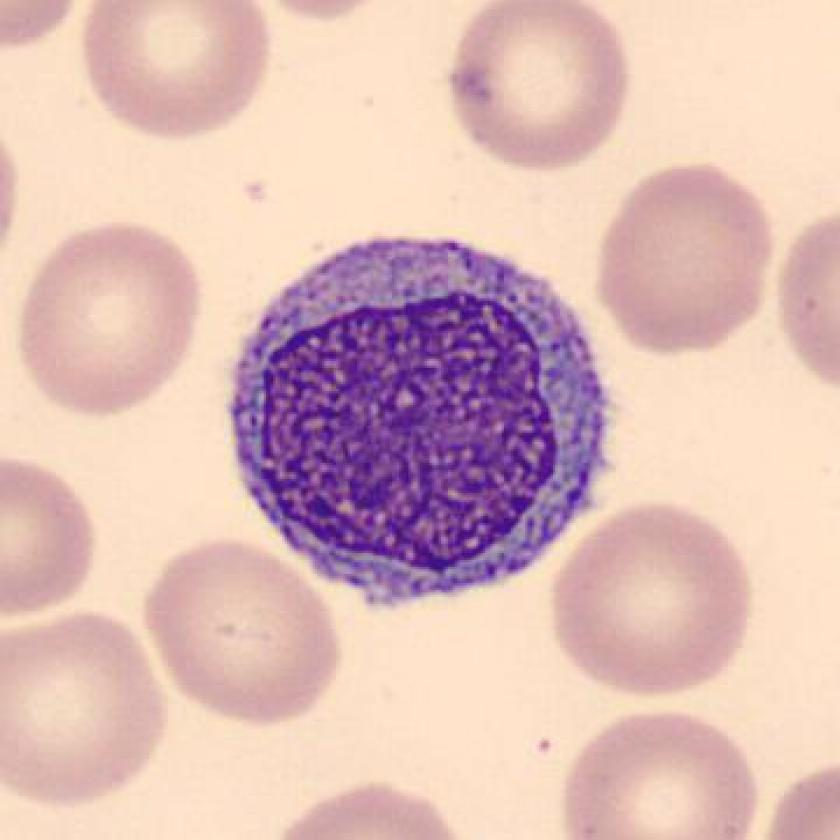monocyte: (209, 216, 633, 635)
